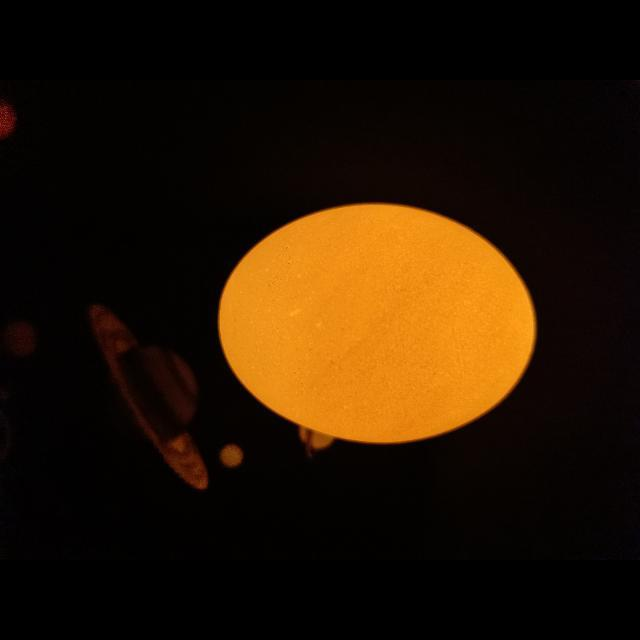AA - Premium: (219, 204, 536, 444)
